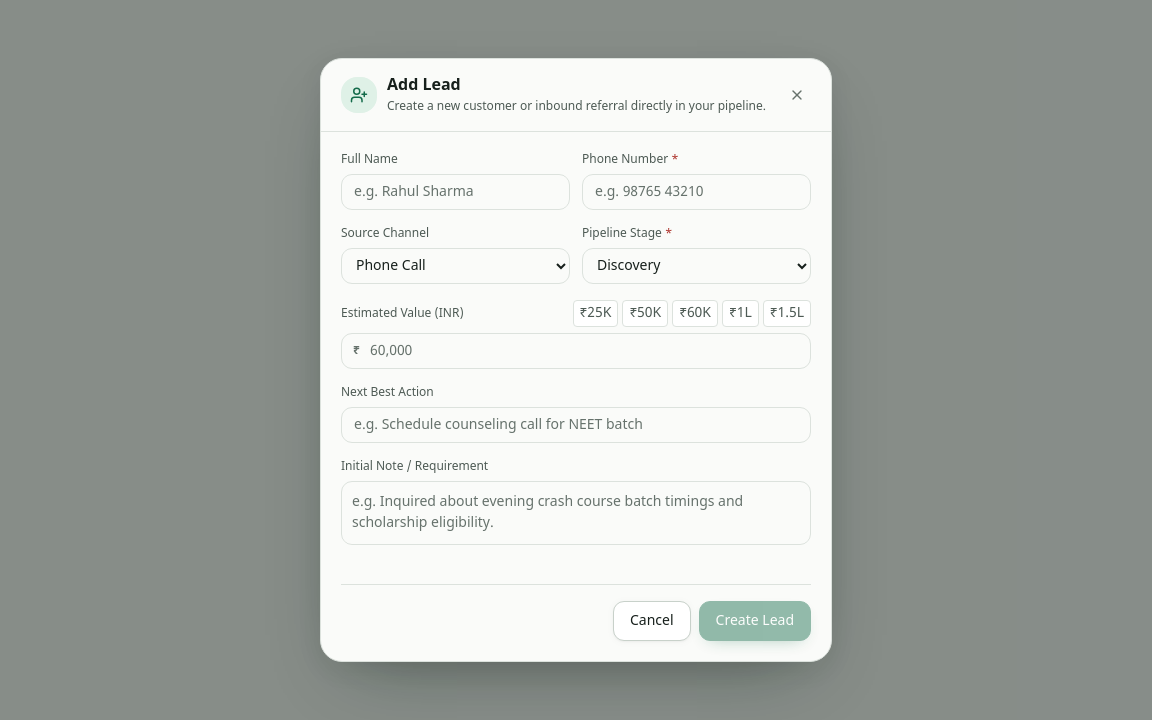
AddLeadModal › populates estimated value when clicking a preset chip
Step 1. Click the button "₹60K" → [695, 314], box [672,300,718,327]
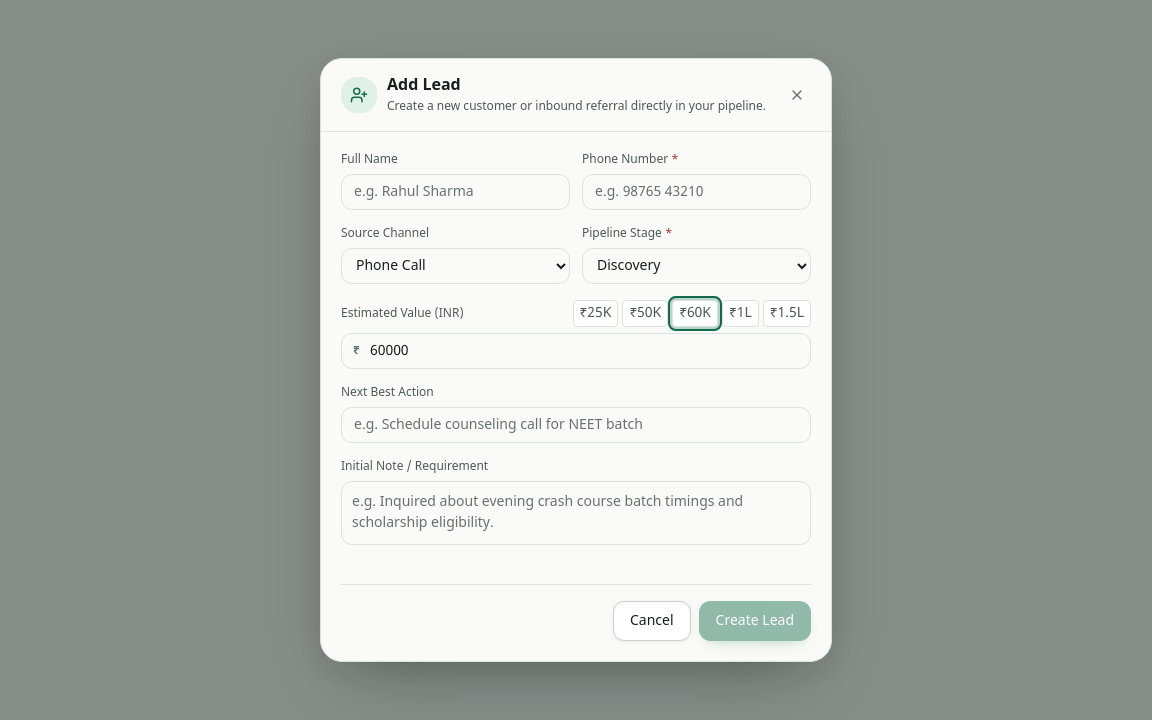
Expected: the field with placeholder "60,000" holds "60000", [341,333,811,369]
